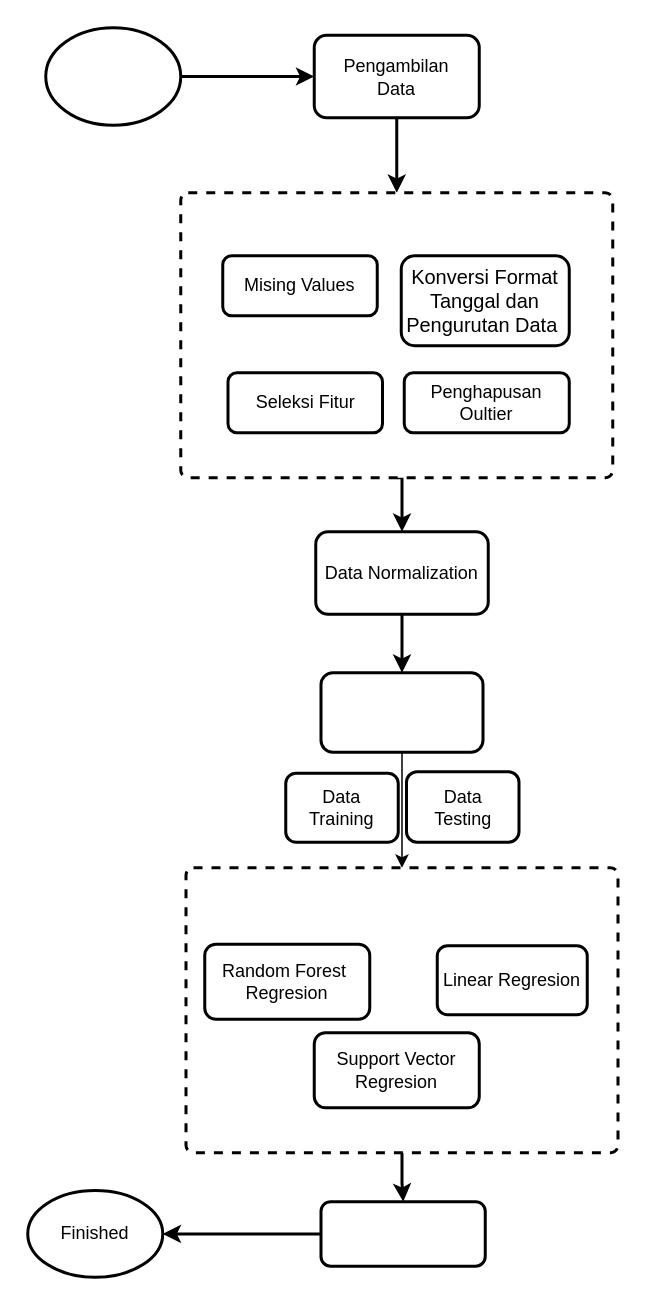
Image size: 645x1304. Some labels were removed from this diagram. The box of each missing label's shape, as (x1, y1, x2, y2) in pixels:
Evaluasi Model: (319, 1199, 486, 1267)
Pemodelan: (184, 866, 619, 1154)
Pre-procesing Data: (178, 190, 614, 478)
Spliting data: (319, 670, 484, 753)
Start: (44, 26, 182, 126)
